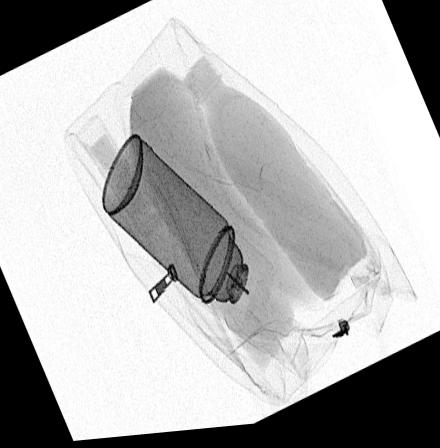Sprayer: (100, 133, 274, 343)
